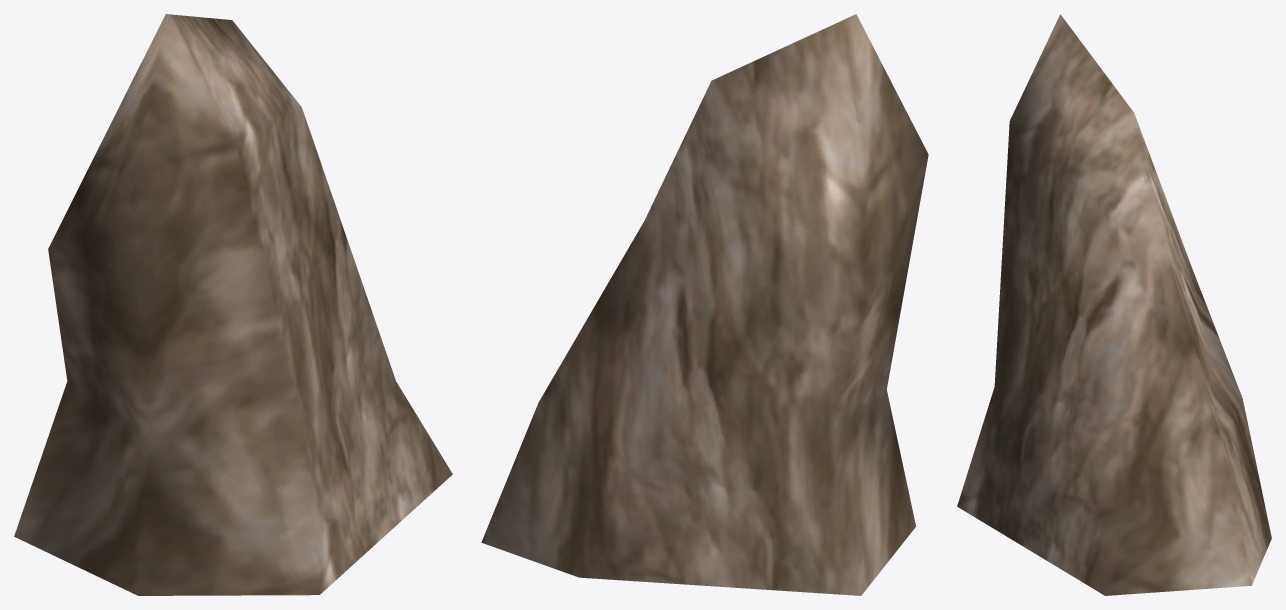
The model's file is OVERHILL_A_01_ROCK29.fbx.
3 views of the same model, side by side, from view 1: azimuth 30°, elevation 25°; view 2: azimuth 150°, elevation 25°; view 3: azimuth 270°, elevation 25° (orthographic). The views are drawn at different scales.
Visible parts, largest first — view 1: OVERHILL_A_01_ROCK29; view 2: OVERHILL_A_01_ROCK29; view 3: OVERHILL_A_01_ROCK29.
Part boxes in pixels (x1,y1,x2,y2): OVERHILL_A_01_ROCK29: (14,14,452,595); OVERHILL_A_01_ROCK29: (481,14,928,595); OVERHILL_A_01_ROCK29: (957,14,1271,595).
Size of the model in its own units: 28152 by 38133 by 23849.
Materials: 1 (1 with a texture image).
